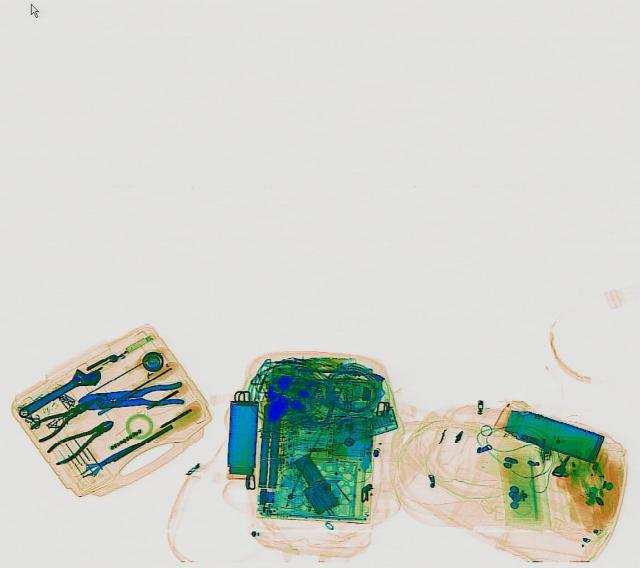Knife: (72, 435, 142, 481)
Pliers: (23, 385, 108, 442), (41, 410, 120, 465), (76, 378, 184, 412)
Wrench: (10, 359, 106, 422)
